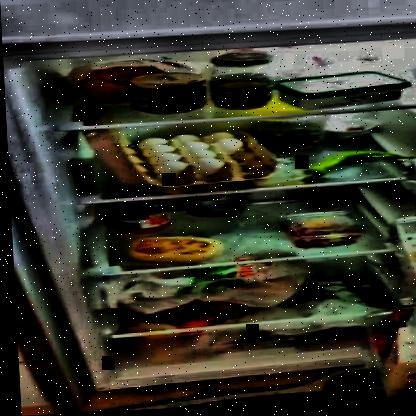cream_cheese: (279, 77, 409, 110)
eggs: (140, 135, 243, 179)
green_chillies: (291, 154, 404, 184)
milk: (388, 366, 415, 400)
olives: (257, 128, 322, 153)
tomato_paste: (132, 73, 203, 115)
